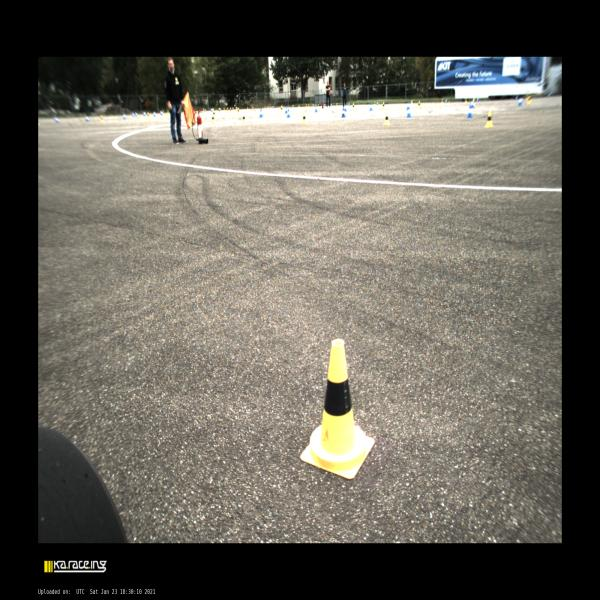blue_cone: (466, 105, 474, 118), (517, 96, 523, 106), (406, 107, 412, 117), (341, 108, 346, 117), (286, 109, 291, 117), (406, 101, 410, 110), (471, 100, 475, 108), (369, 103, 373, 111), (259, 109, 263, 117), (54, 117, 59, 123), (284, 106, 288, 113), (86, 116, 90, 122), (344, 104, 347, 111), (123, 113, 126, 120), (315, 105, 318, 111), (160, 110, 163, 116), (153, 111, 156, 117), (144, 111, 146, 117), (135, 112, 137, 117), (516, 96, 518, 100), (445, 99, 447, 103), (410, 100, 412, 104), (210, 108, 212, 112), (132, 113, 134, 117), (476, 98, 478, 101), (376, 102, 378, 105), (204, 109, 206, 112), (220, 108, 221, 111)
yellow_cone: (300, 339, 375, 479), (484, 110, 494, 128), (383, 112, 390, 126), (302, 112, 307, 125), (526, 95, 532, 105), (242, 114, 246, 124), (211, 114, 215, 124), (417, 100, 421, 109), (100, 115, 104, 123), (280, 105, 284, 112), (473, 98, 476, 107), (352, 102, 355, 110), (147, 112, 150, 120), (382, 102, 385, 109), (218, 107, 221, 114), (229, 107, 232, 113), (237, 107, 239, 115), (464, 98, 467, 103), (226, 108, 229, 113), (202, 108, 205, 113), (213, 110, 215, 117), (526, 94, 528, 100), (441, 98, 443, 104), (411, 99, 413, 105), (336, 102, 338, 108), (318, 103, 320, 109), (308, 103, 310, 109), (306, 103, 308, 109), (236, 106, 238, 112), (298, 103, 300, 108), (264, 105, 266, 110), (212, 108, 214, 113), (162, 110, 164, 115), (374, 101, 376, 105), (247, 106, 249, 110), (167, 110, 169, 114), (224, 107, 225, 112)
